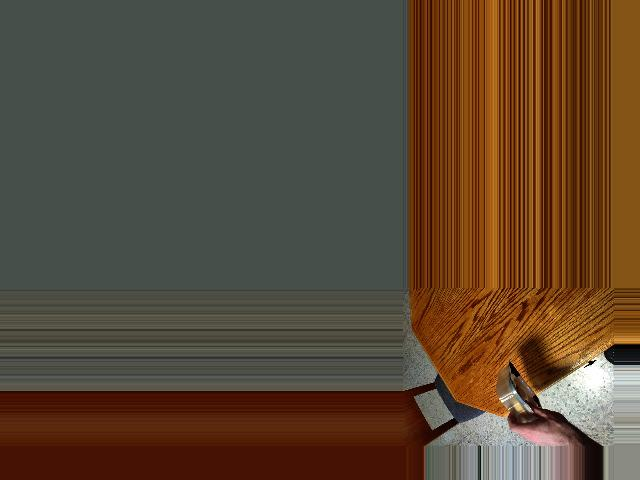cheese: (488, 367, 563, 430)
